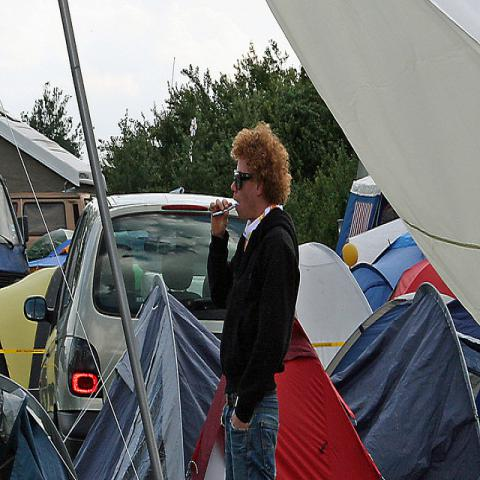car: (22, 192, 245, 460), (0, 170, 63, 403)
